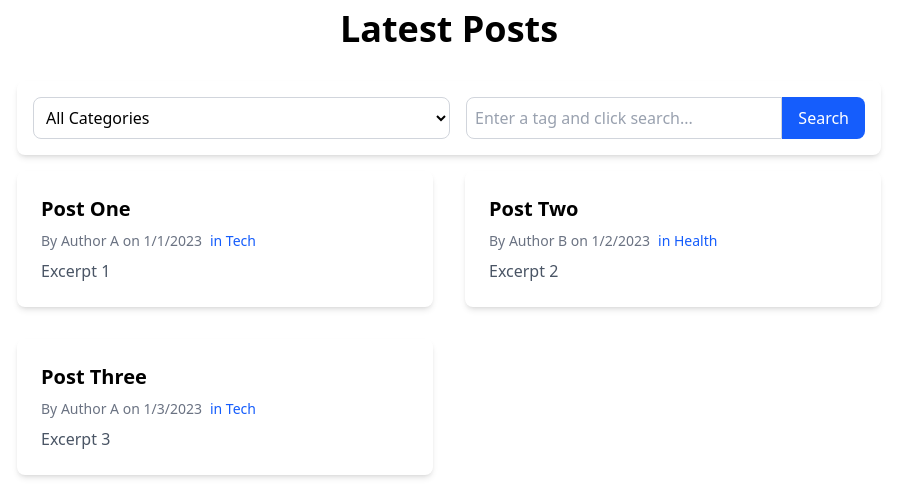
Test case: PublicPostList Component › should search posts by tag
Expected: the heading "Post One" is shown, x1=41 y1=195 x2=131 y2=222
// Type 'react' into the tag search input
In the field with placeholder "Enter a tag and click search...": (624, 118) x1=466 y1=97 x2=782 y2=139, type "react"
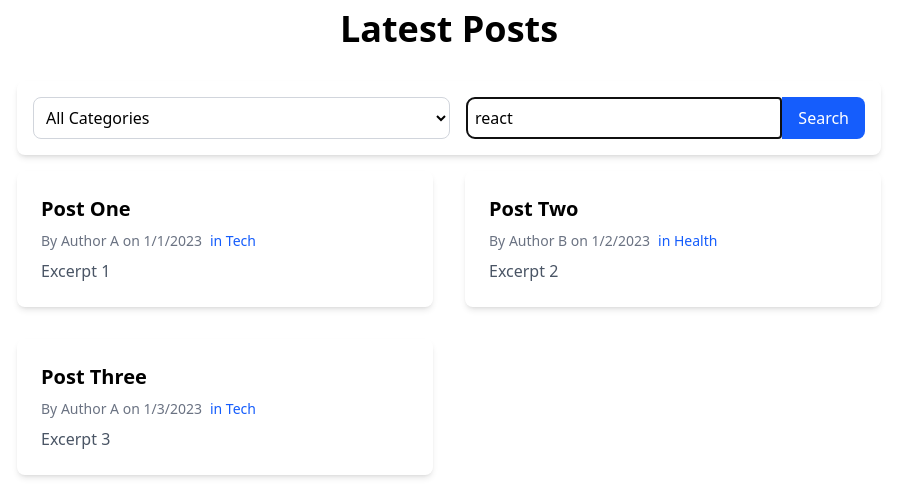
Click the button "Search": click(824, 118) x1=782 y1=97 x2=865 y2=139
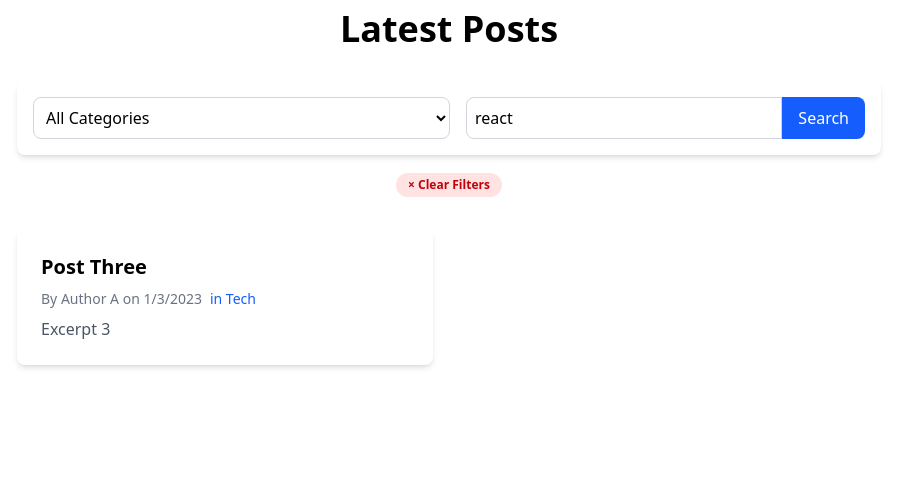
Expected: the heading "Post Three" is shown, x1=41 y1=253 x2=147 y2=280
Now the link "Post One" is gone
Now the link "Post Two" is gone
